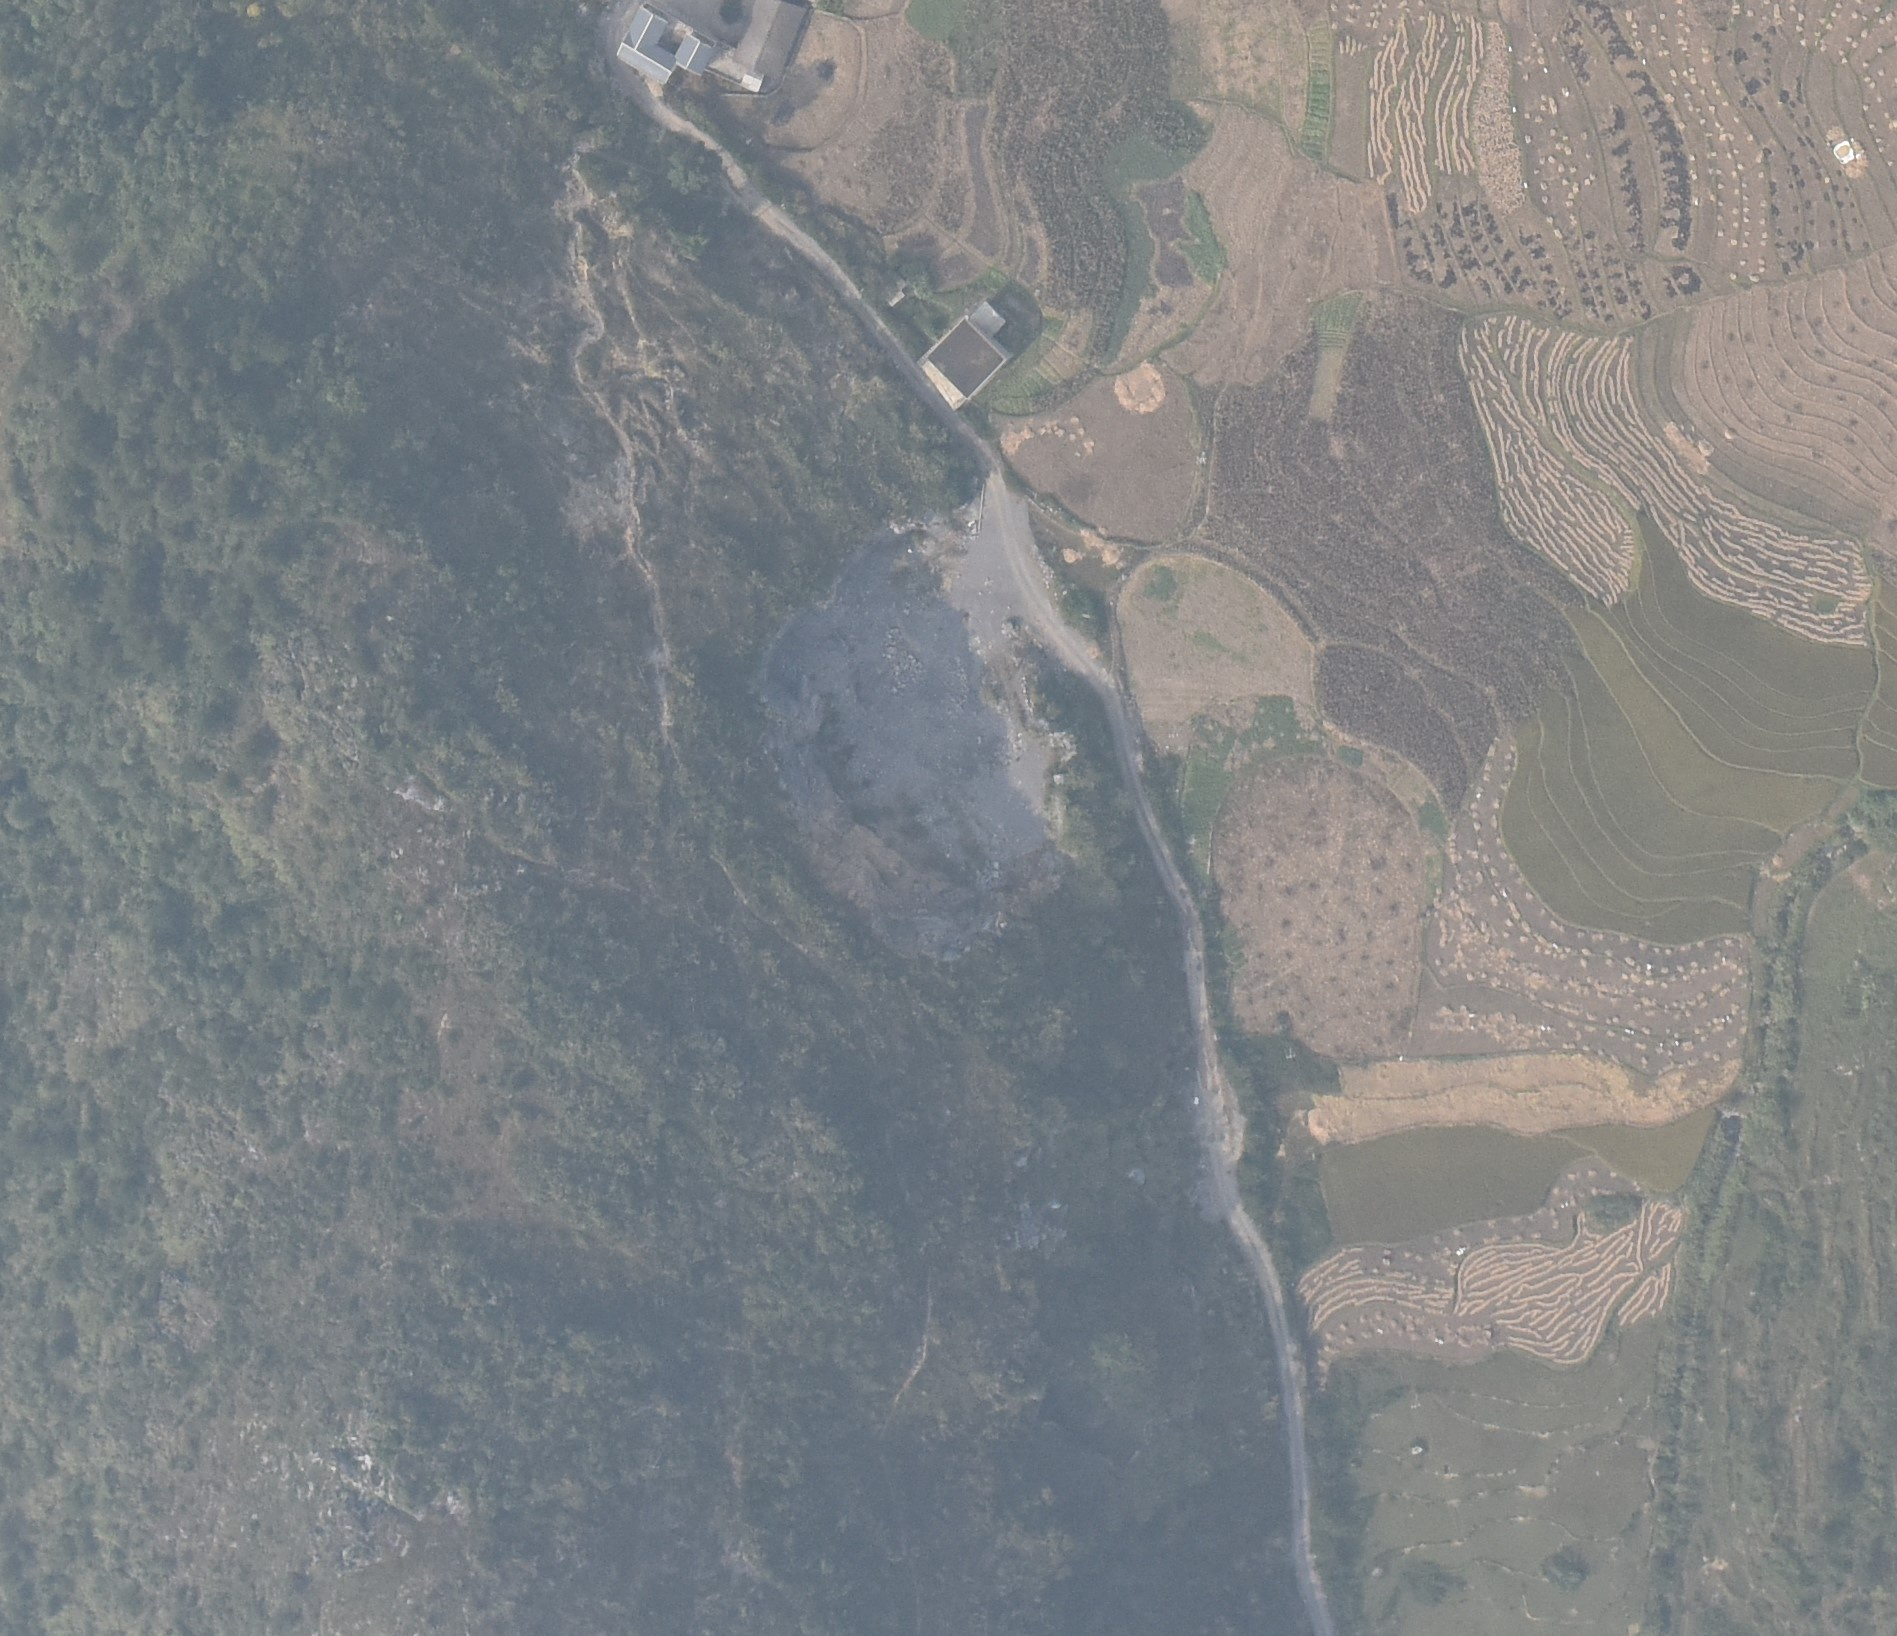building: (919, 298, 1003, 407), (616, 6, 715, 82), (732, 2, 803, 90)
quarry: (760, 474, 1065, 942)
